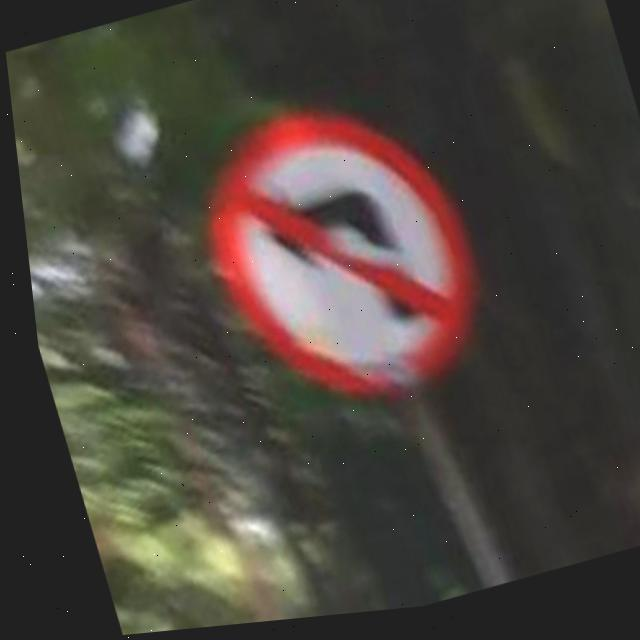Dilarang Belok Kiri: (188, 90, 488, 423)
